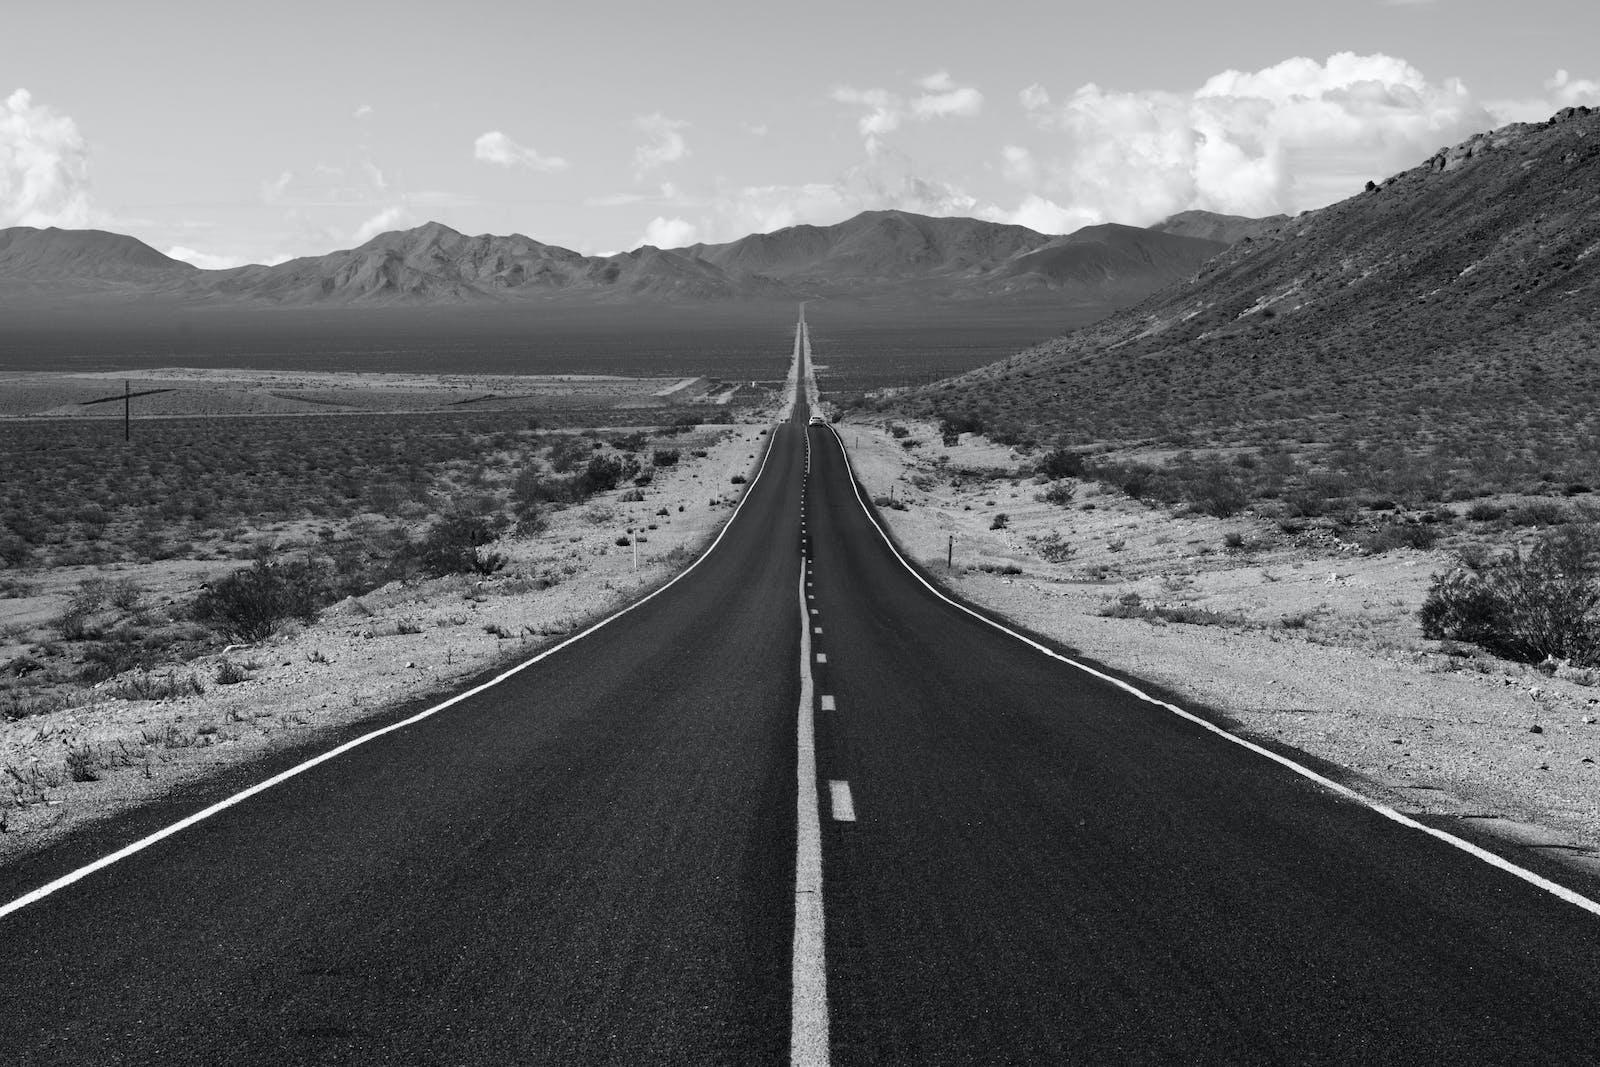field: (0, 426, 754, 857), (885, 483, 1599, 850)
road: (0, 414, 1599, 1063)
